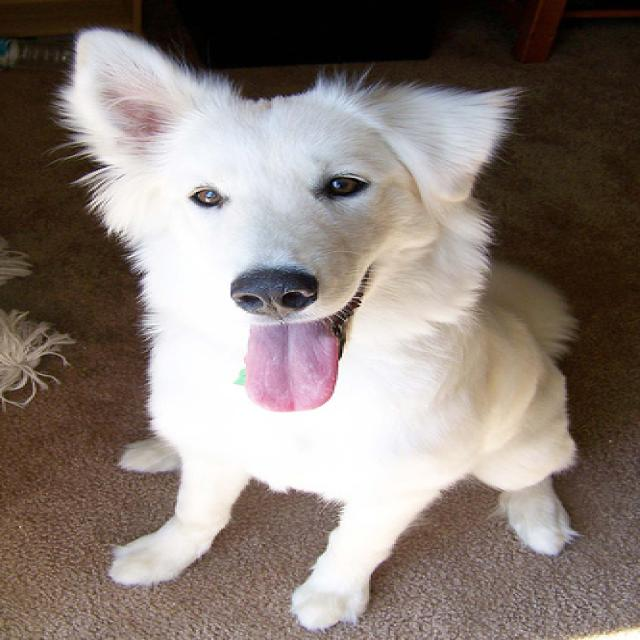dog: (73, 26, 504, 408)
